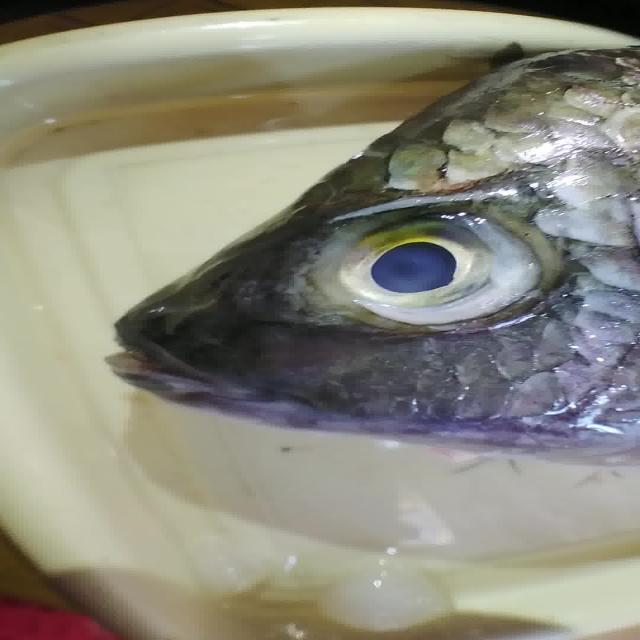Fresh: (324, 204, 593, 369)
